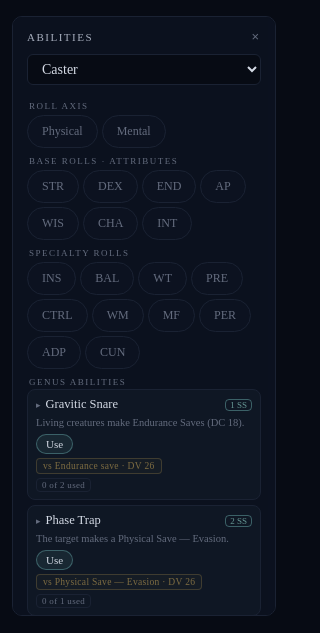
usage limits › counts a use against the printed allowance
The image size is (320, 633).
Check: the element showing "0 of 2 used" is shown, box [36,478,91,492]
Click the 1st button "Use".
click(55, 444)  # box [36,434,73,454]
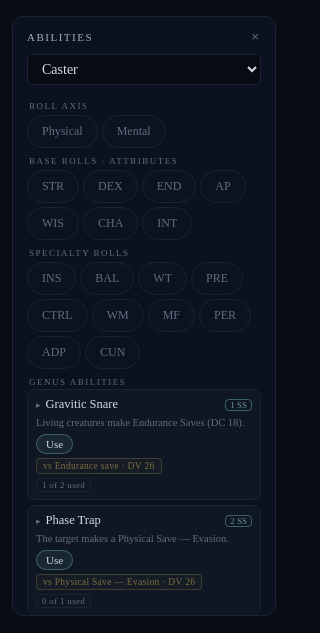
Check: the element showing "1 of 2 used" is shown, box [36,478,91,492]
